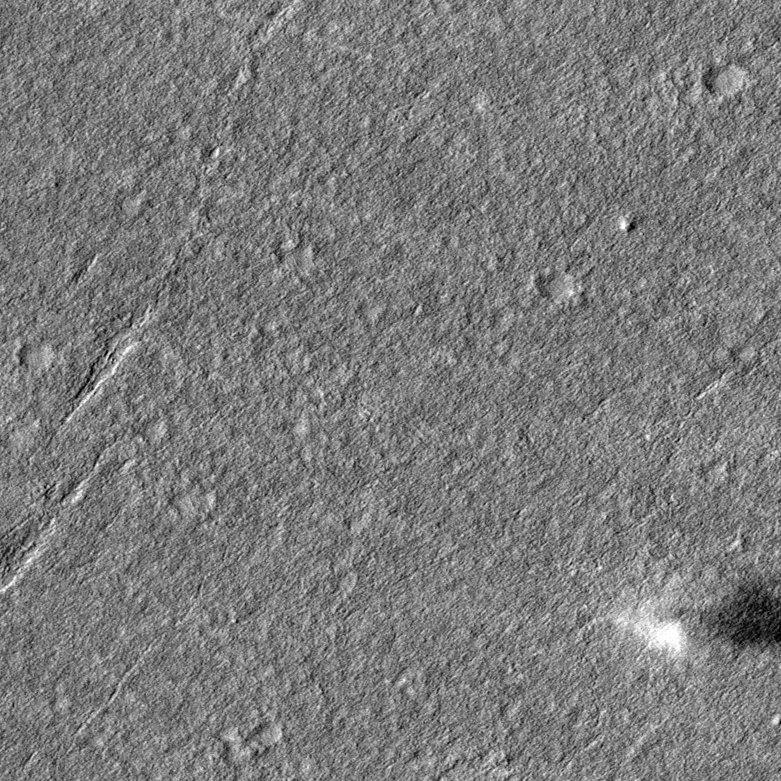dust_devil: (605, 571, 781, 665)
